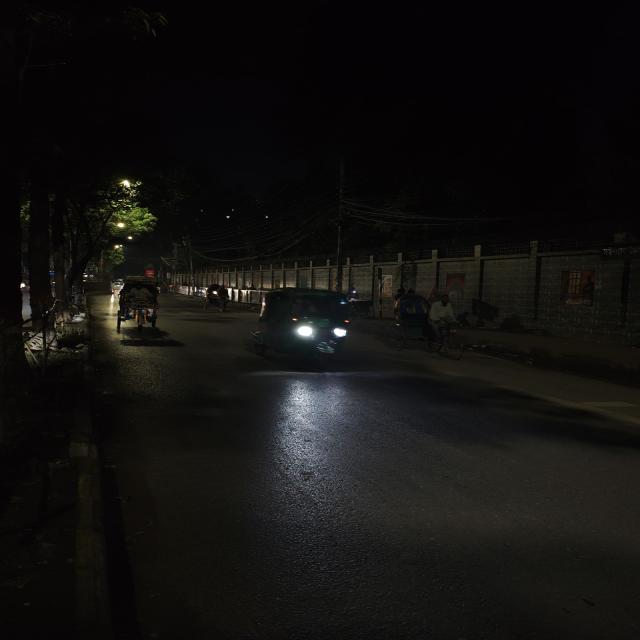cng: (246, 288, 361, 362)
rickshaw: (386, 286, 463, 358), (112, 276, 169, 332), (200, 283, 232, 313)
